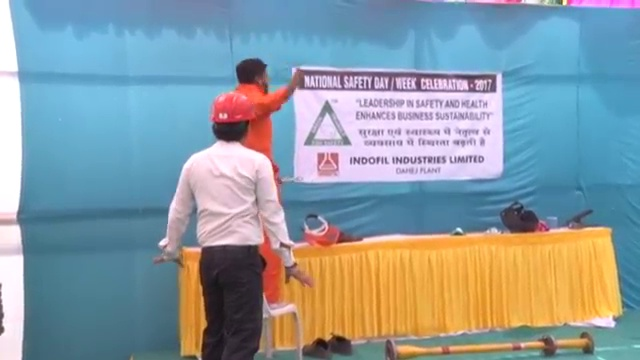helmet: (210, 91, 259, 123)
helmet_off: (235, 55, 270, 97)
helmet_on: (209, 92, 257, 144)
person: (156, 89, 295, 360), (215, 55, 308, 305)
